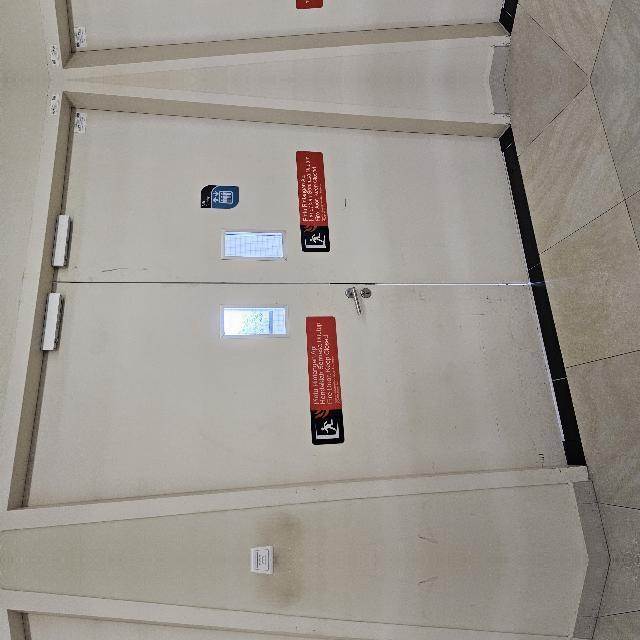door: (29, 83, 468, 640), (29, 449, 468, 640), (29, 0, 468, 76)
